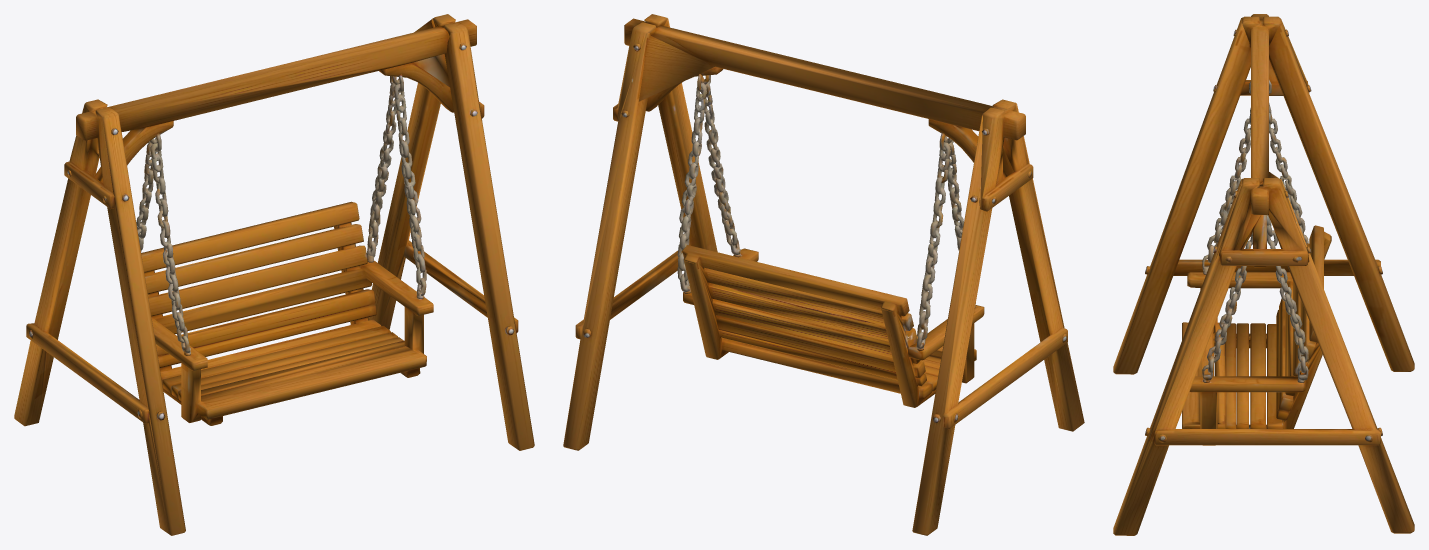
File: a_wooden_swing_set_8149ef92_v3.glb
3 renders of one model, left to right at view 1: azimuth 30°, elevation 25°; view 2: azimuth 150°, elevation 25°; view 3: azimuth 270°, elevation 25°, orthographic. The views are drawn at different scales.
Visible parts, largest first — view 1: material; view 2: material; view 3: material.
Part boxes in pixels (x1,y1,x2,y2): material: (14, 14, 534, 535); material: (563, 14, 1084, 535); material: (1113, 14, 1414, 535).
Size of the model in its own units: 1.9 by 1.71 by 1.33.
Materials: 1 (1 with a texture image).
